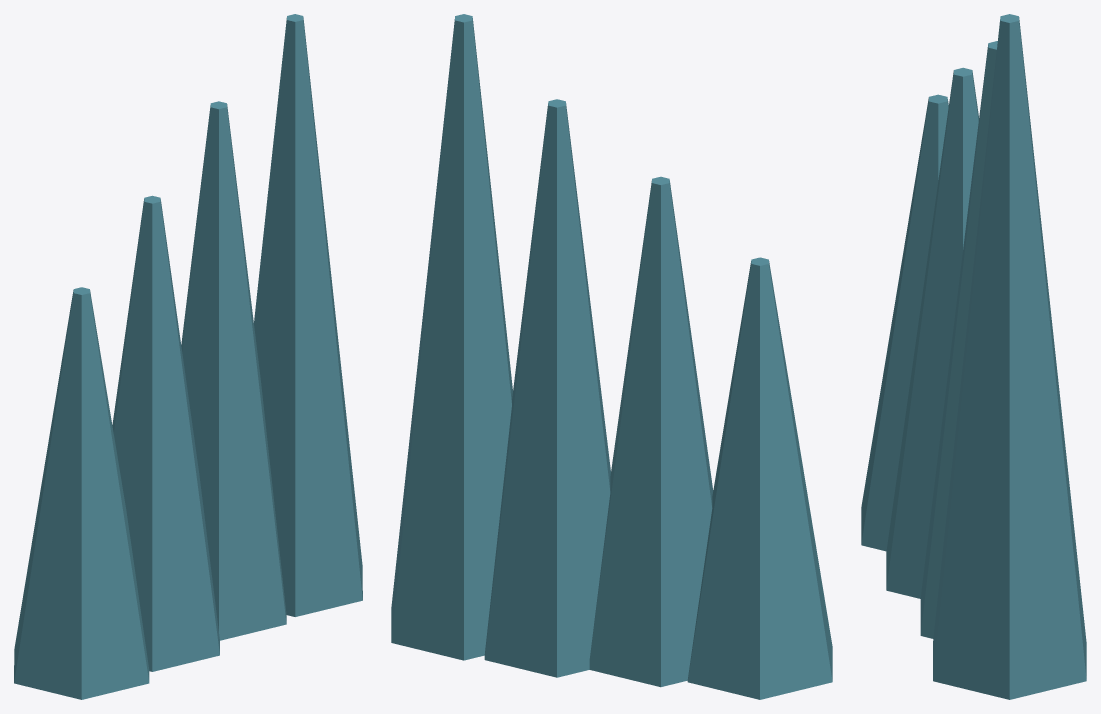
Rendered from map-boundaries-v5__frost_06.glb.
3 renders of one model, left to right at view 1: azimuth 30°, elevation 25°; view 2: azimuth 150°, elevation 25°; view 3: azimuth 270°, elevation 25°, orthographic. The views are drawn at different scales.
Parts seen in each view (by area): view 1: frost_06; view 2: frost_06; view 3: frost_06.
Part boxes in pixels (x1,y1,x2,y2): frost_06: (14,14,362,699); frost_06: (391,14,832,699); frost_06: (861,14,1086,699).
Size of the model in its own units: 1.63 by 2.32 by 0.7361.
